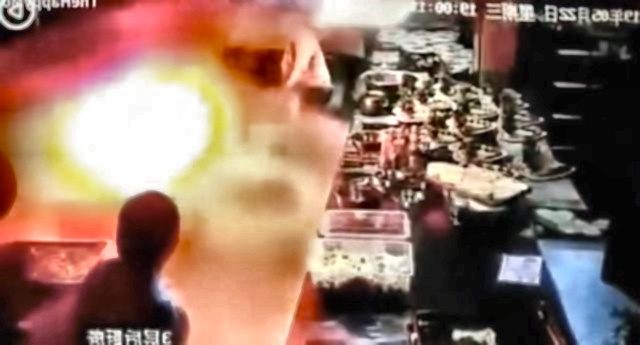fire: (30, 58, 235, 197)
